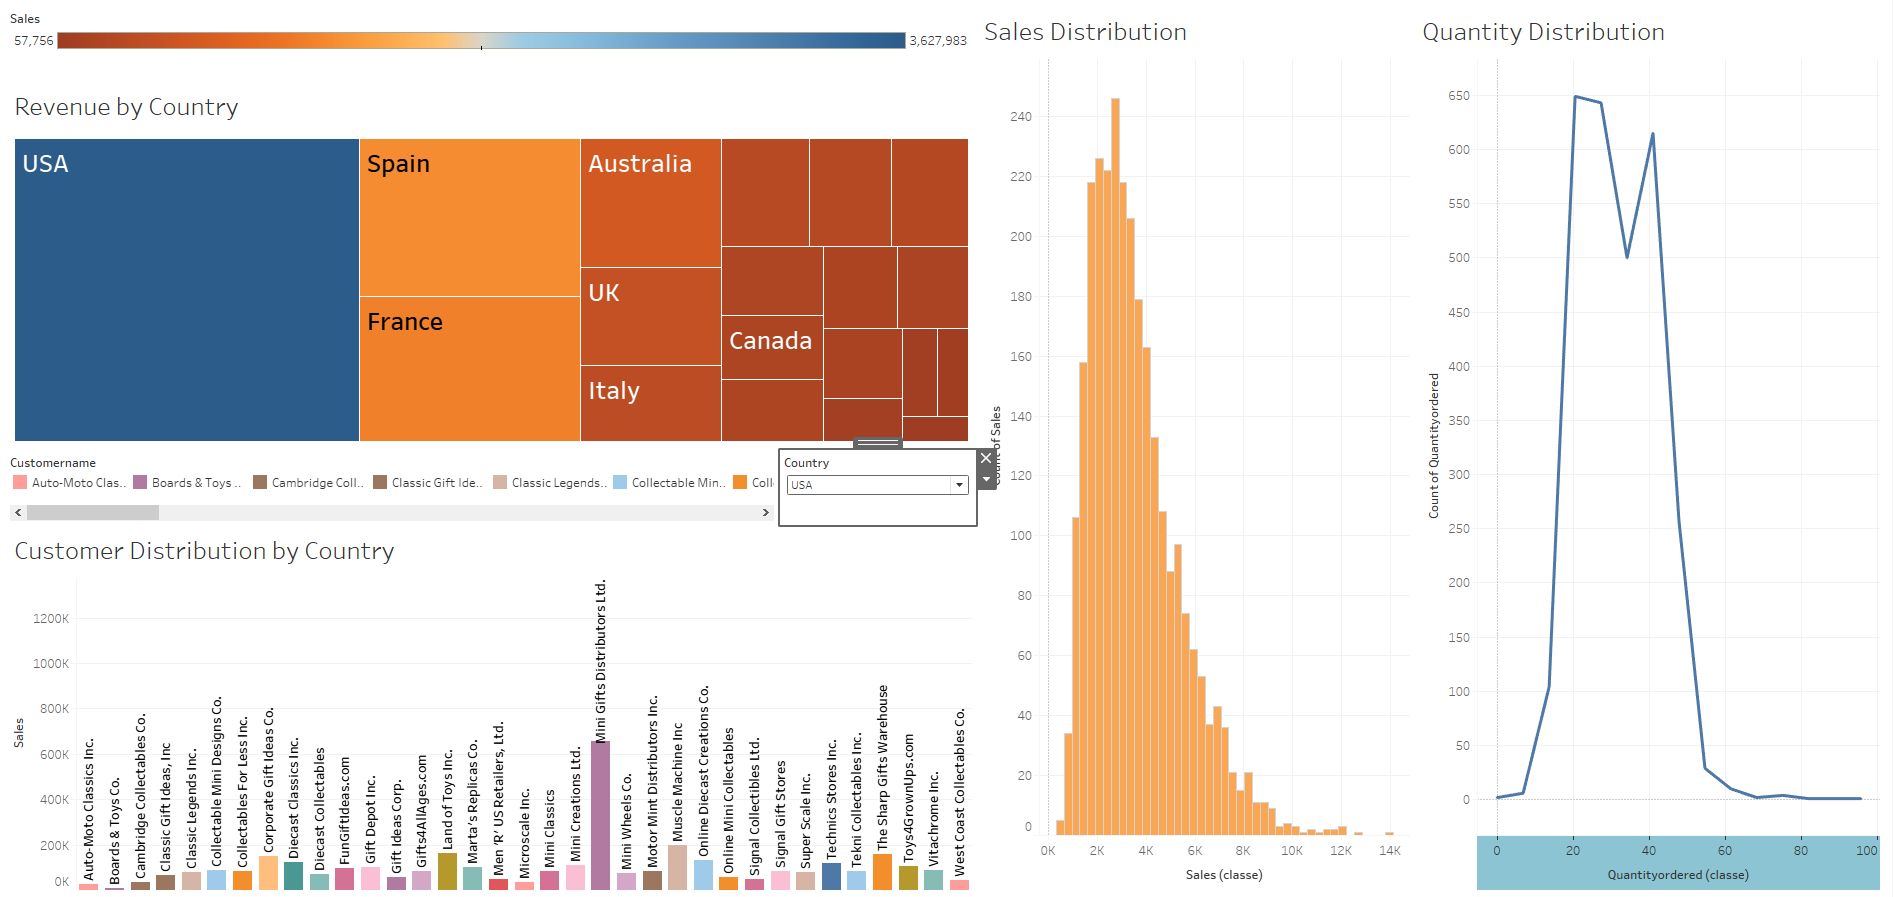

The dashboard page shown, as its layout file describes it:
{"tool":"tableau","page":{"name":"Sales Dash 1","canvas":[1000,1000],"units":"permille","ordinal":0},"visuals":[{"type":"legend","title":"Revenue by Country","param":"[federated.15tkuxn0zxl9cq1bsomi41c1chjj].[sum:SALES:qk]","box":[4.7,8.8,511.8,83]},{"type":"worksheet","title":"Sales Distribution","mark":"Automatic","rows":["SALES"],"cols":["Sales (classe)"],"box":[516.5,8.8,231.2,982.3]},{"type":"worksheet","title":"Quantity Distribution","mark":"Line","rows":["QUANTITYORDERED"],"cols":["Quantityordered (classe)"],"box":[747.7,8.8,247.7,982.3]},{"type":"worksheet","title":"Revenue by Country","mark":"Automatic","box":[4.7,91.8,511.8,408.2]},{"type":"legend","title":"Customer Distribution by Country","param":"[federated.15tkuxn0zxl9cq1bsomi41c1chjj].[none:CUSTOMERNAME:nk]","box":[4.7,500,408.4,83]},{"type":"filter","title":"Customer Distribution by Country","param":"[federated.15tkuxn0zxl9cq1bsomi41c1chjj].[none:COUNTRY:nk]","box":[413.1,500,103.4,83]},{"type":"worksheet","title":"Customer Distribution by Country","mark":"Automatic","rows":["SALES"],"cols":["CUSTOMERNAME"],"box":[4.7,583,511.8,408.2]}]}

Visuals, with their boxes on the dashboard's canvas, which has no fixed pixel size, in thousandths of its width and height (x1, y1, x2, y2). These are canvas units, not pixel positions in the 1893x897 screenshot, which may show the page scaled, cropped or inside an application window:
"Revenue by Country" legend: 5,9,516,92
"Sales Distribution" worksheet: 516,9,748,991
"Quantity Distribution" worksheet (Line marks): 748,9,995,991
"Revenue by Country" worksheet: 5,92,516,500
"Customer Distribution by Country" legend: 5,500,413,583
"Customer Distribution by Country" filter: 413,500,516,583
"Customer Distribution by Country" worksheet: 5,583,516,991
